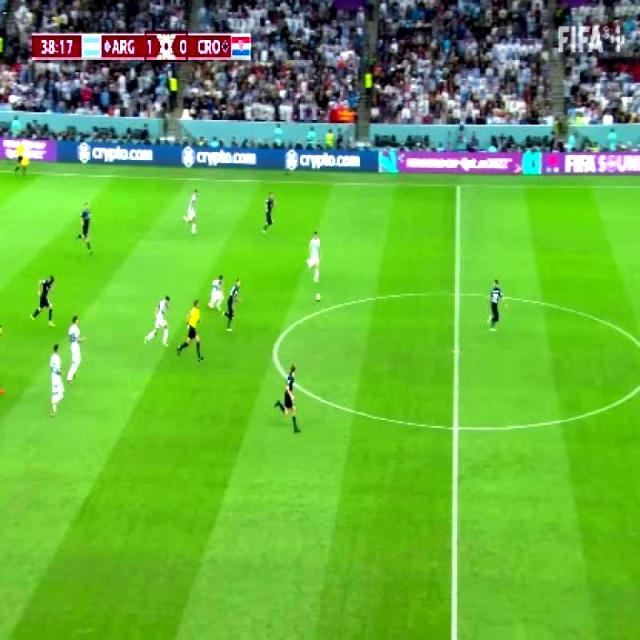halfcircle_bottom: (444, 411, 466, 442)
halfcircle_top: (446, 280, 468, 306)
midline_top_intersection: (451, 175, 466, 195)
